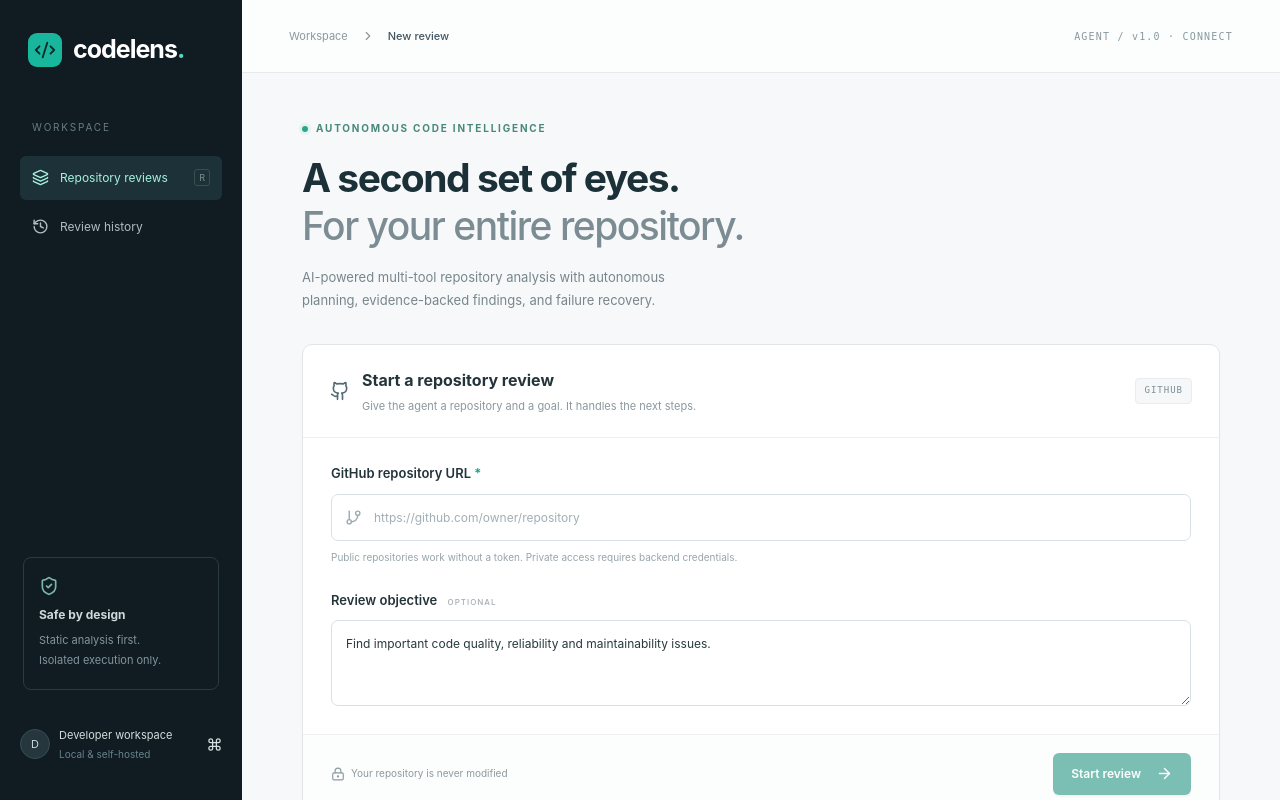
dashboard › shows an API failure
Type "https://github.com/a/b" into the field labelled "GitHub repository URL *" at (761, 517), box [331, 494, 1191, 541]
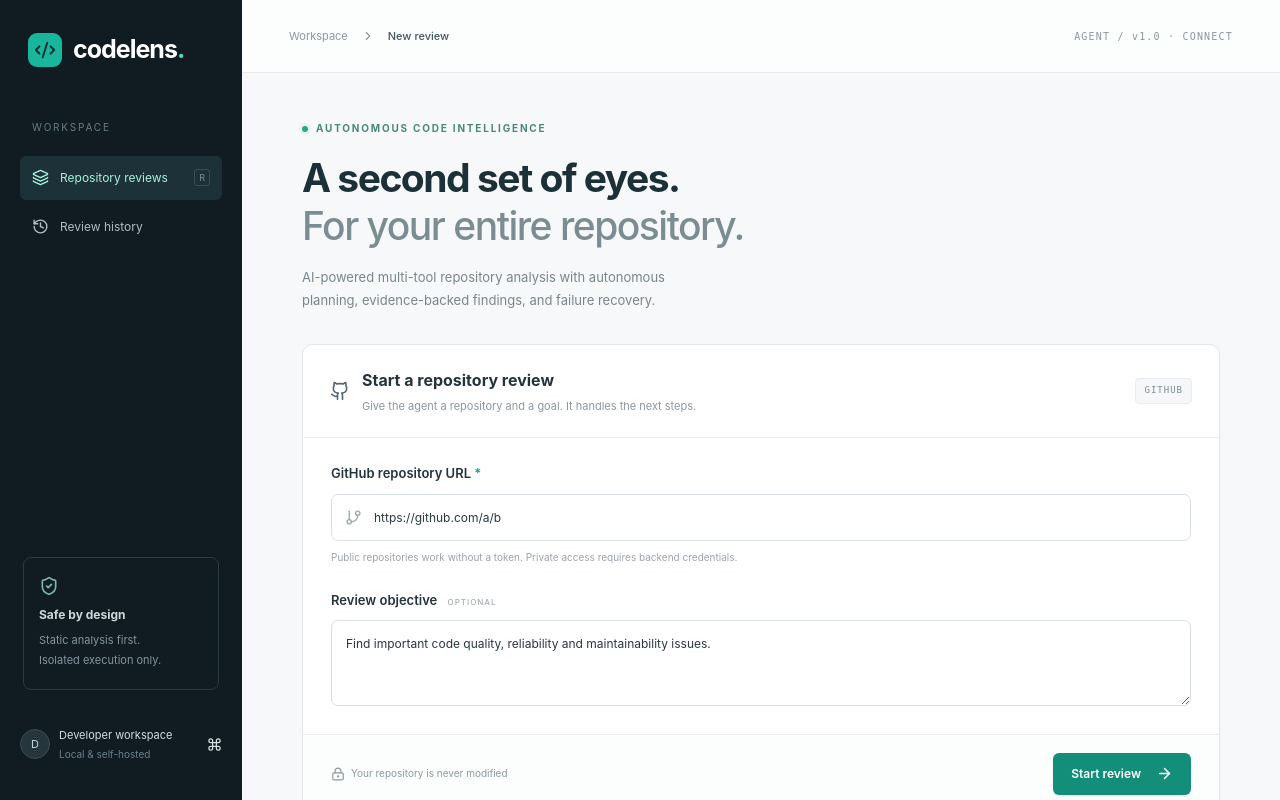
Click the button "Start review" at (1122, 774), box [1053, 753, 1191, 795]
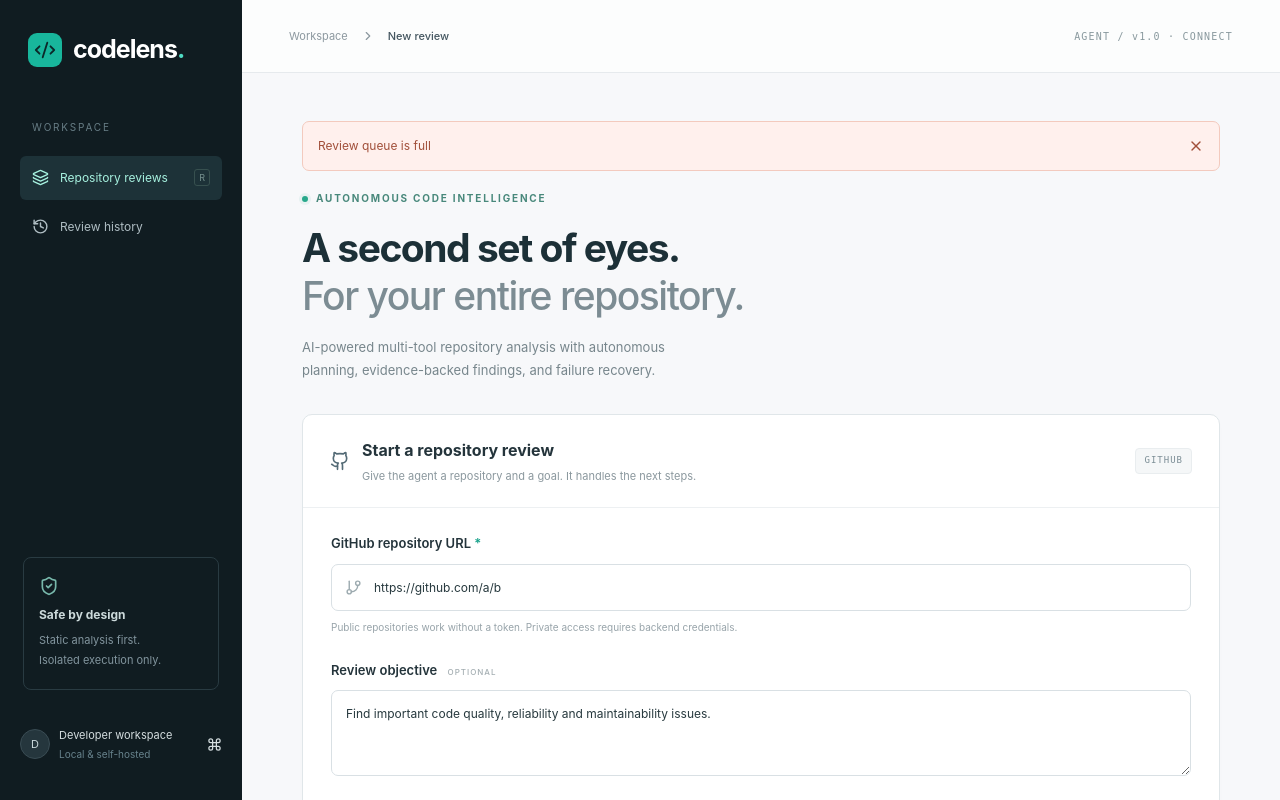
Expected: the message reads "Review queue is full", [318, 138, 431, 153]
